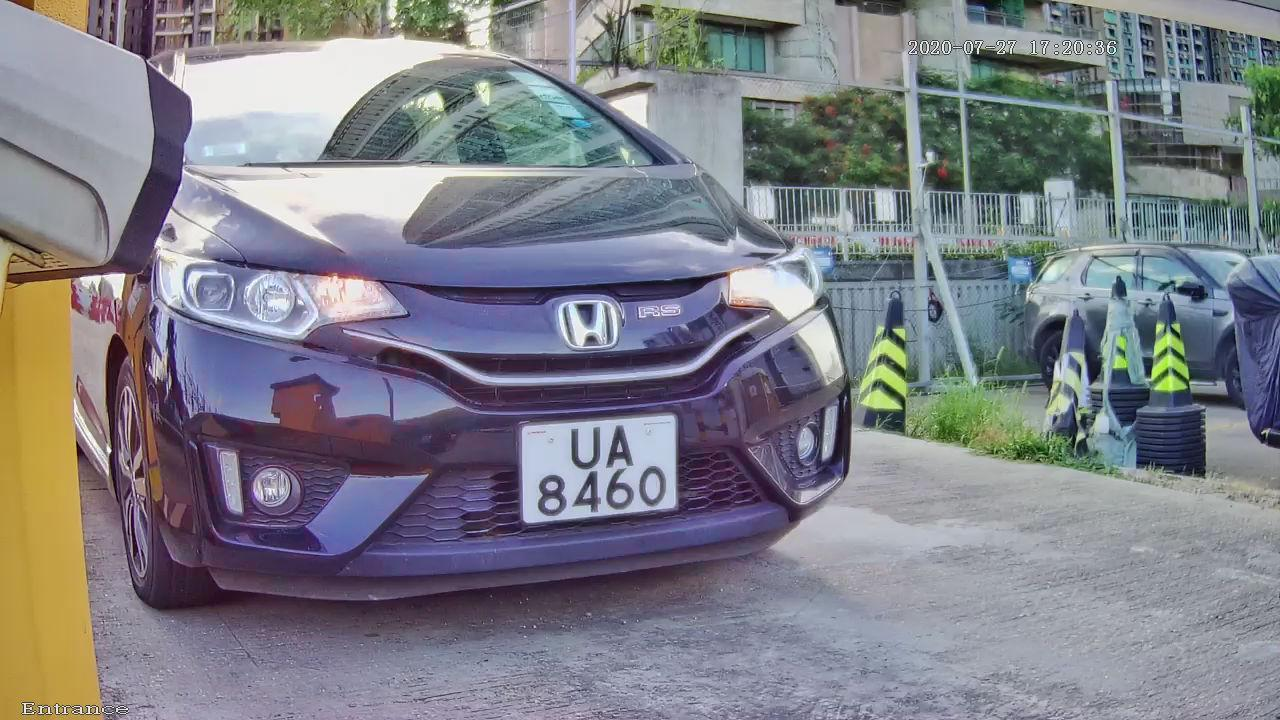privatecar: (23, 20, 949, 637)
